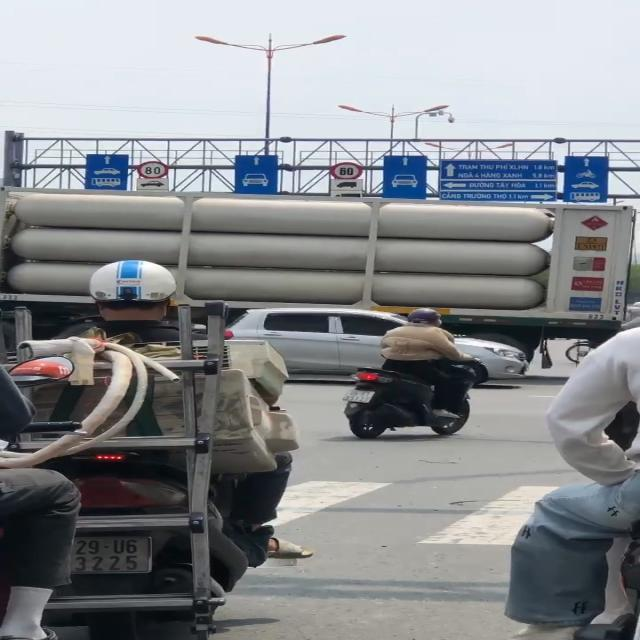Bien bao toc do toi da cho phep: (326, 161, 369, 181), (137, 158, 174, 180)
